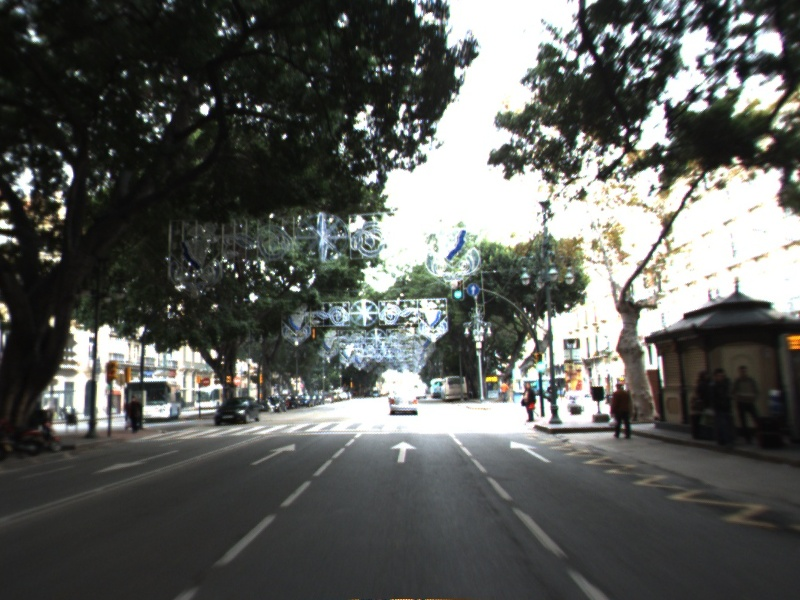STRAIGHT: (248, 442, 298, 467), (508, 439, 555, 465), (387, 439, 419, 464)
